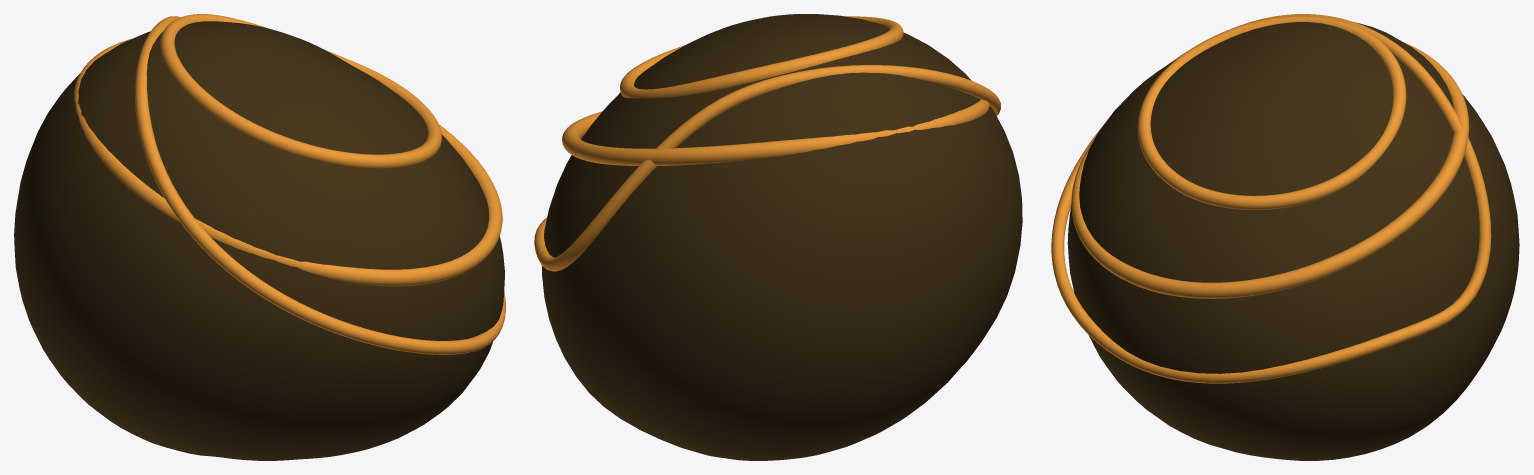
The model's file is chocolate1.fbx.
The picture shows the model from 3 angles, left to right: view 1: azimuth 30°, elevation 25°; view 2: azimuth 150°, elevation 25°; view 3: azimuth 270°, elevation 25°; orthographic projection. The views are drawn at different scales.
Parts seen in each view (by area): view 1: Sphere; view 2: Sphere; view 3: Sphere.
Part boxes in pixels (x1,y1,x2,y2): Sphere: (14, 14, 505, 460); Sphere: (534, 14, 1022, 460); Sphere: (1051, 14, 1519, 460).
Bounding box in the file's own units: 46.65 × 43.02 × 48.57.
